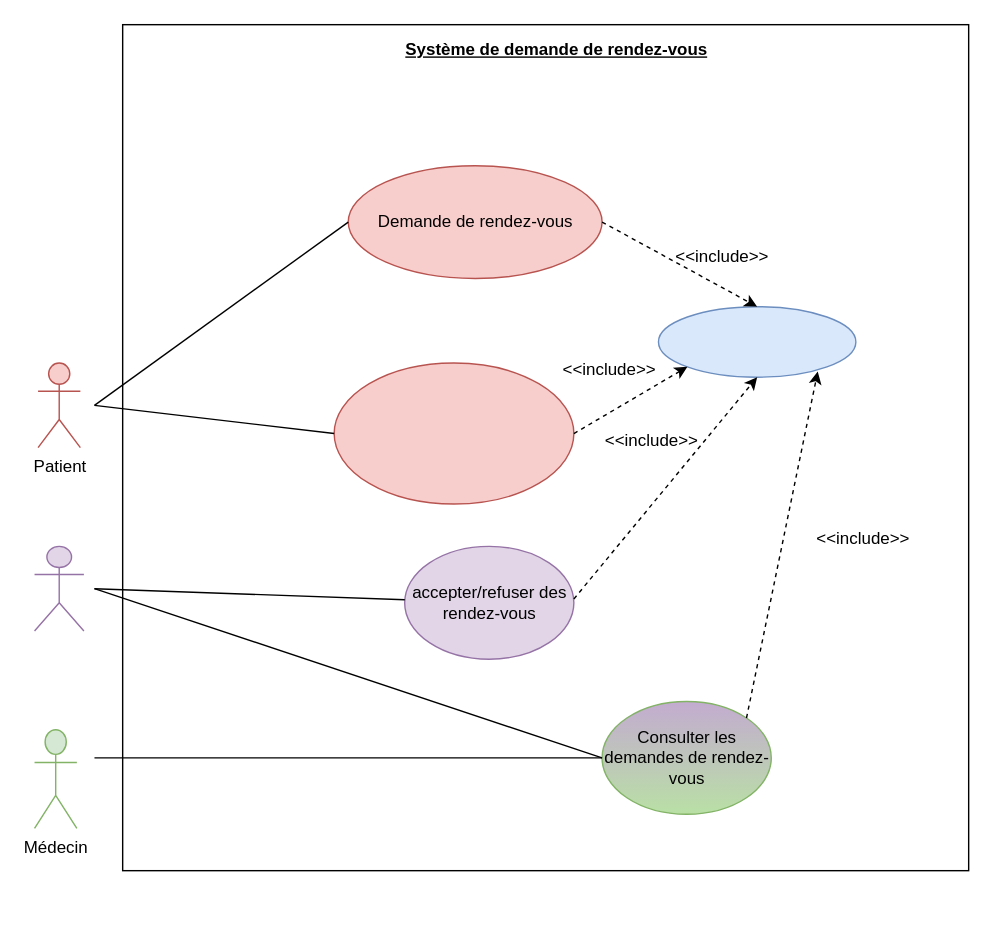
This 994x945 diagram has some shape labels left out. The box of each missing label's shape, as (x1, y1, x2, y2) in pixels:
Affichage des informations de l'utilisateur: (333, 362, 574, 504)
Assisant: (33, 545, 84, 631)
Authentification: (657, 305, 856, 377)
